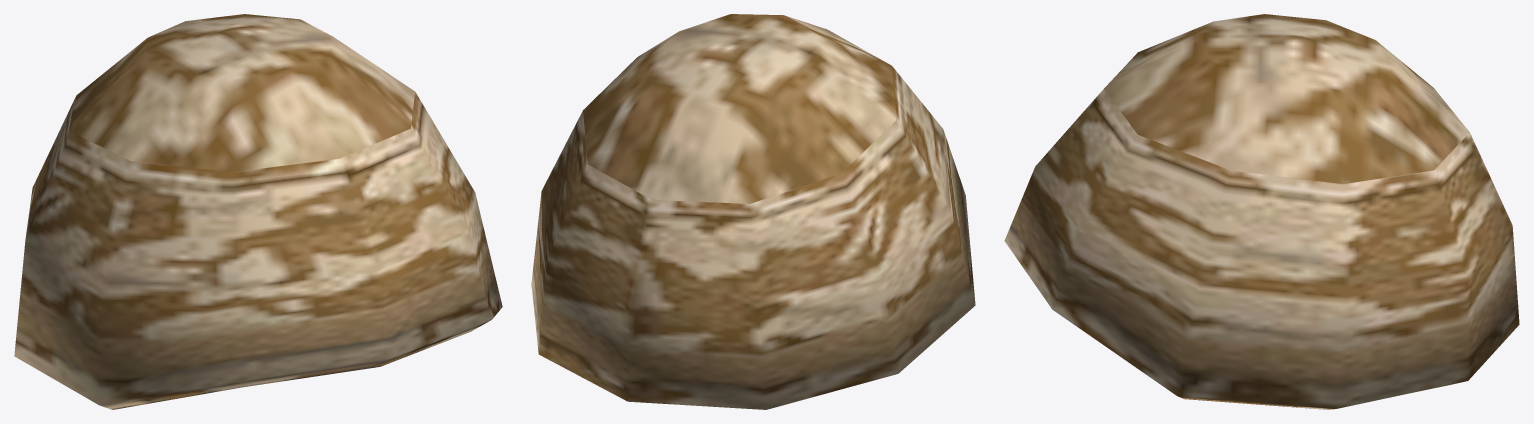
Rendered from UK_Helmet_Desert.glb.
3 renders of one model, left to right at view 1: azimuth 30°, elevation 25°; view 2: azimuth 150°, elevation 25°; view 3: azimuth 270°, elevation 25°, orthographic. The views are drawn at different scales.
Parts seen in each view (by area): view 1: UK_HELMET_DESERT; view 2: UK_HELMET_DESERT; view 3: UK_HELMET_DESERT.
Boxes of the visible parts, x1=… form: UK_HELMET_DESERT: x1=14, y1=14, x2=502, y2=409; UK_HELMET_DESERT: x1=531, y1=14, x2=975, y2=409; UK_HELMET_DESERT: x1=1004, y1=14, x2=1519, y2=409.
Size of the model in its own units: 0.258 by 0.19 by 0.301.
Materials: 1 (1 with a texture image).
